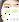with_mask: (1, 2, 19, 22)
